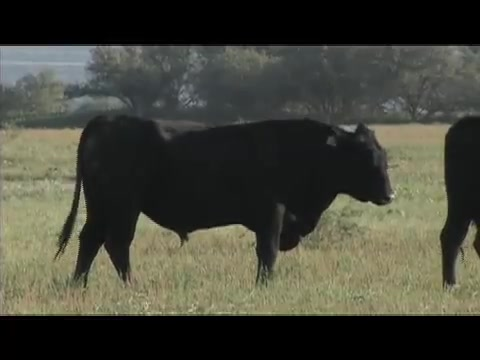cow: (56, 116, 397, 291), (441, 114, 480, 291)
